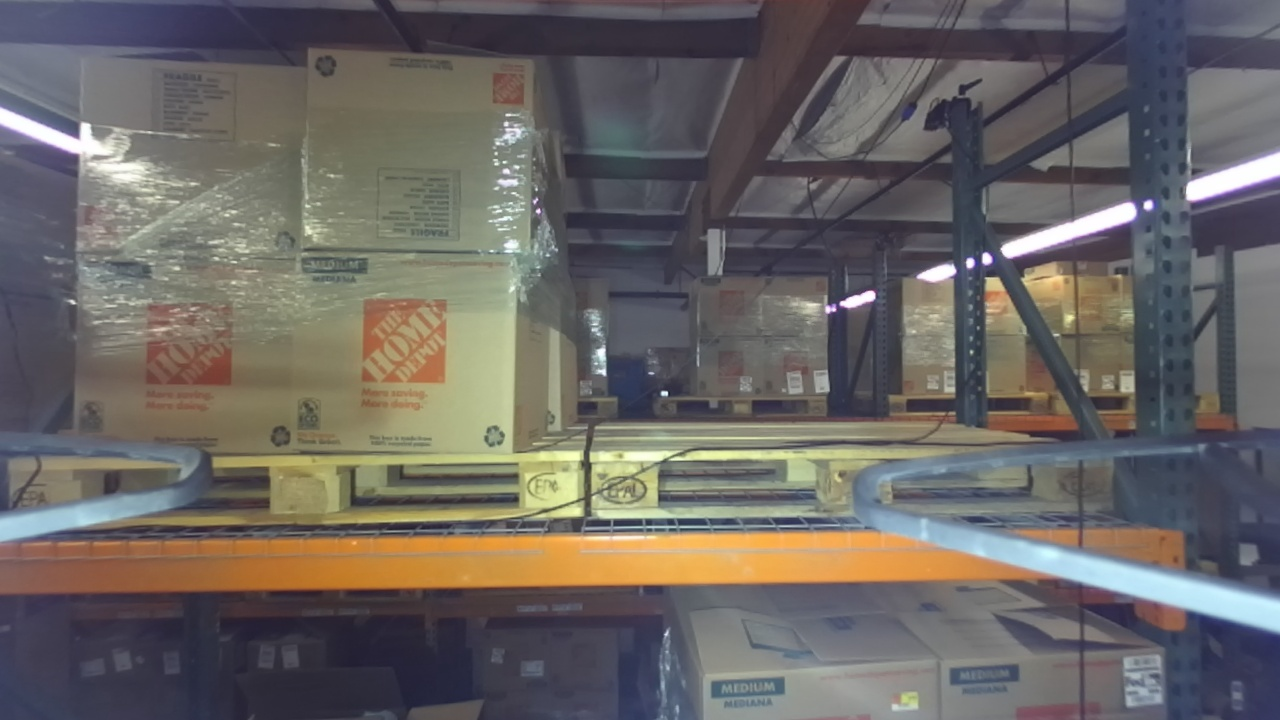box: (266, 224, 555, 464), (52, 239, 320, 478), (58, 34, 331, 268), (289, 31, 548, 277)
